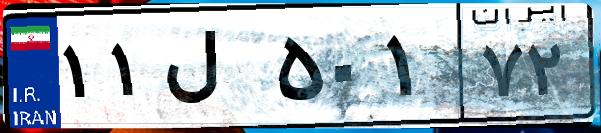0: (330, 28, 385, 110)
1: (385, 28, 445, 110), (57, 26, 110, 100), (110, 28, 158, 98)
2: (525, 38, 570, 115)
5: (270, 28, 330, 110)
7: (475, 38, 525, 113)
ل: (158, 20, 270, 120)
